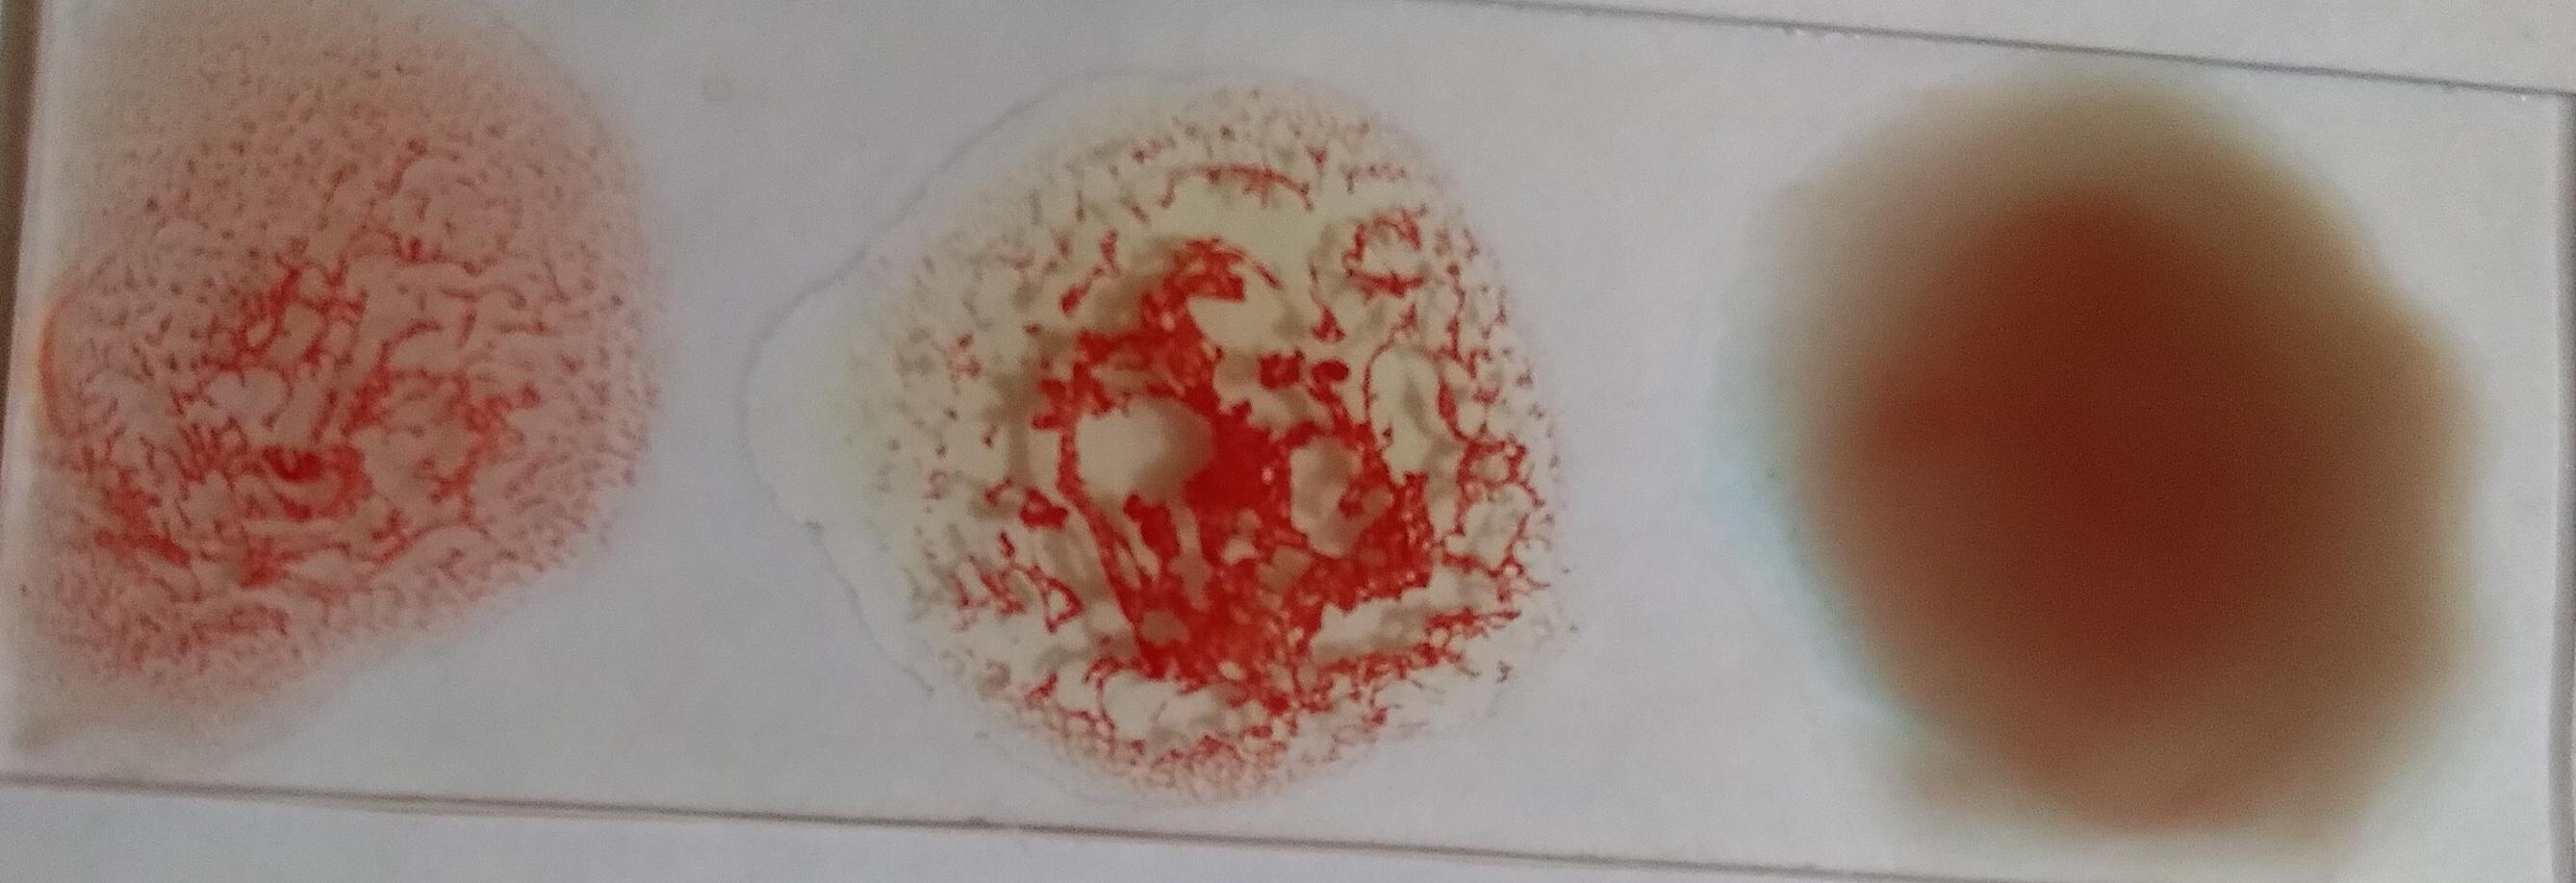B: (856, 74, 1549, 808)
D: (36, 2, 659, 748)
